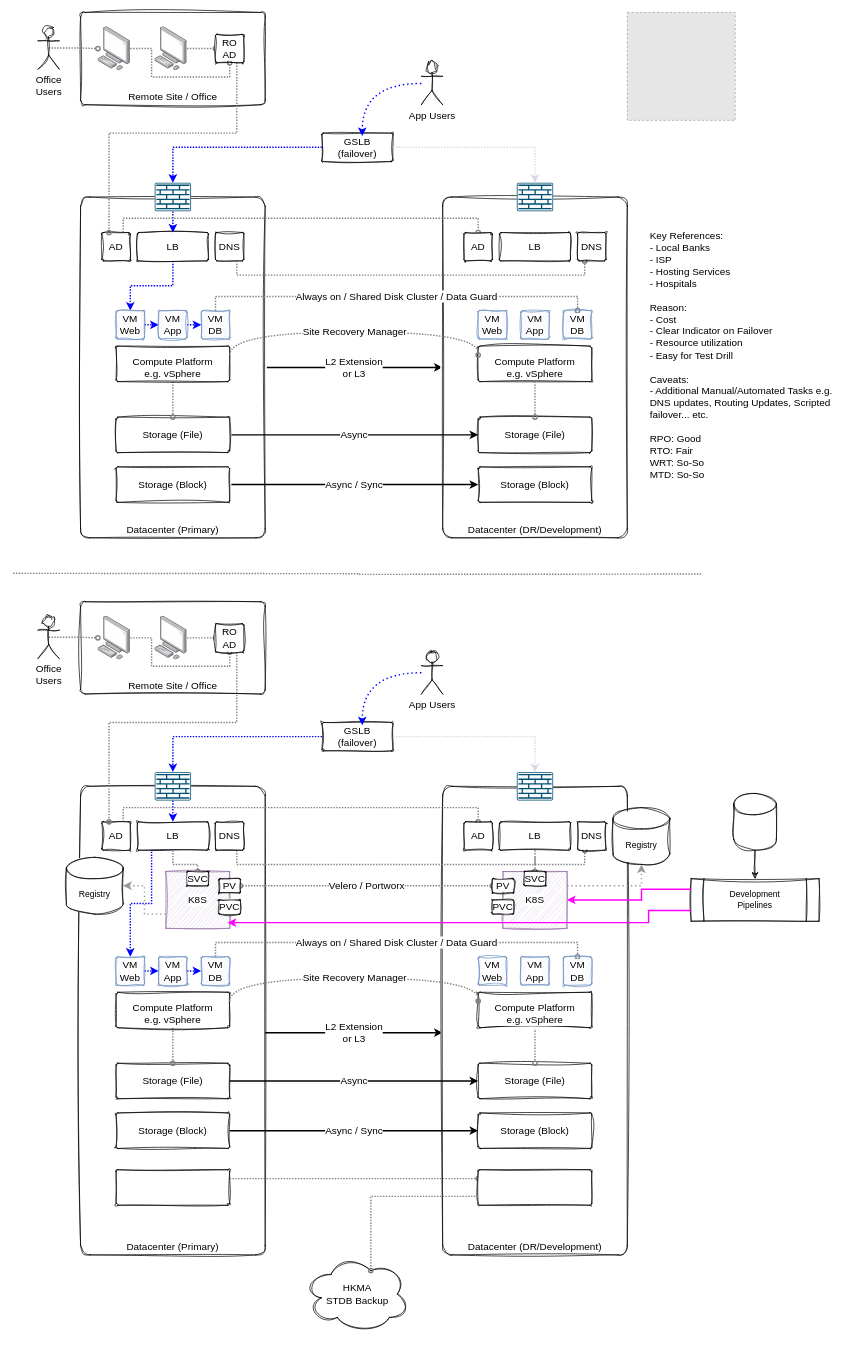
Some shapes in this 859 by 1345 pixel diagram are drawn without their labels. Grey dashed boxes stand in for pictures. The centre of each missing label's shape, as x and y in pixels:
Backup (Primary): pixel 172 1187
Backup (Secondary): pixel 534 1187
Repo: pixel 754 821
